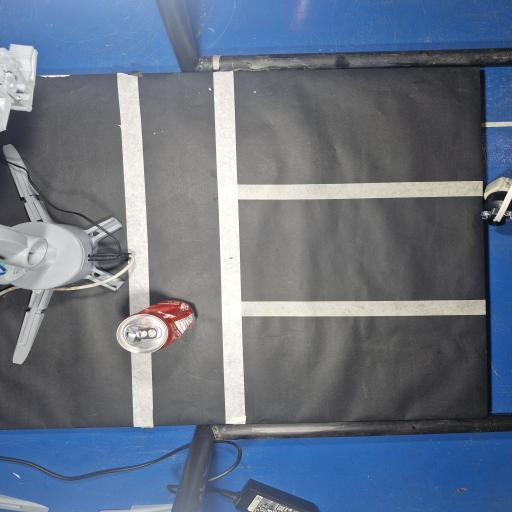lata_defectuoso: (117, 300, 196, 353)
